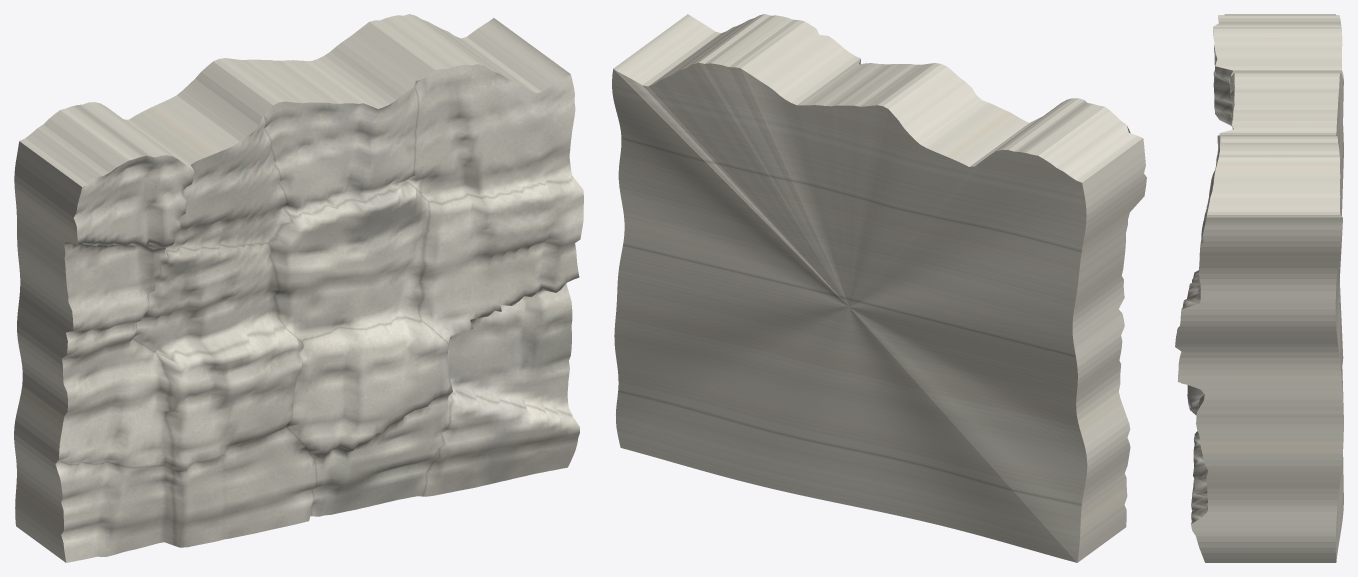
File: rock-lod1.glb
The picture shows the model from 3 angles, left to right: view 1: azimuth 30°, elevation 25°; view 2: azimuth 150°, elevation 25°; view 3: azimuth 270°, elevation 25°; orthographic projection. The views are drawn at different scales.
Parts seen in each view (by area): view 1: Rock_LOD1; view 2: Rock_LOD1; view 3: Rock_LOD1.
Boxes of the visible parts, bbox=[...] form: Rock_LOD1: bbox=[14, 14, 583, 562]; Rock_LOD1: bbox=[612, 14, 1146, 562]; Rock_LOD1: bbox=[1175, 14, 1343, 562].
Bounding box in the file's own units: 12.07 × 10.01 × 4.11.
Materials: 1 (1 with a texture image).
